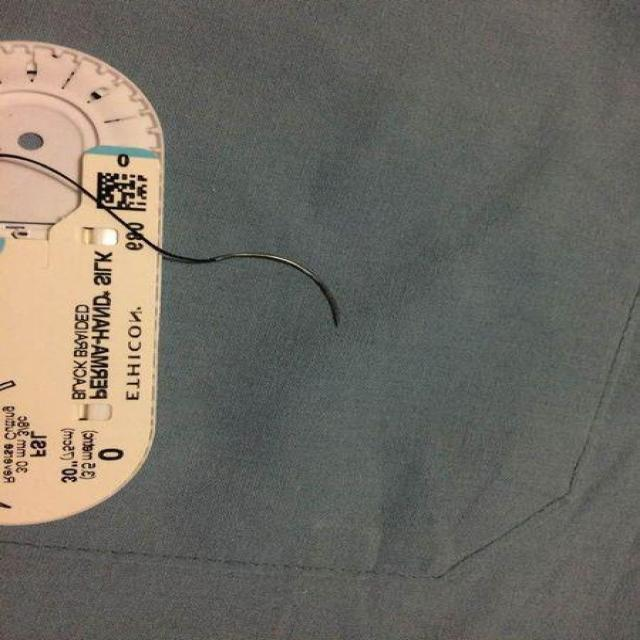Needle: (204, 247, 352, 341)
